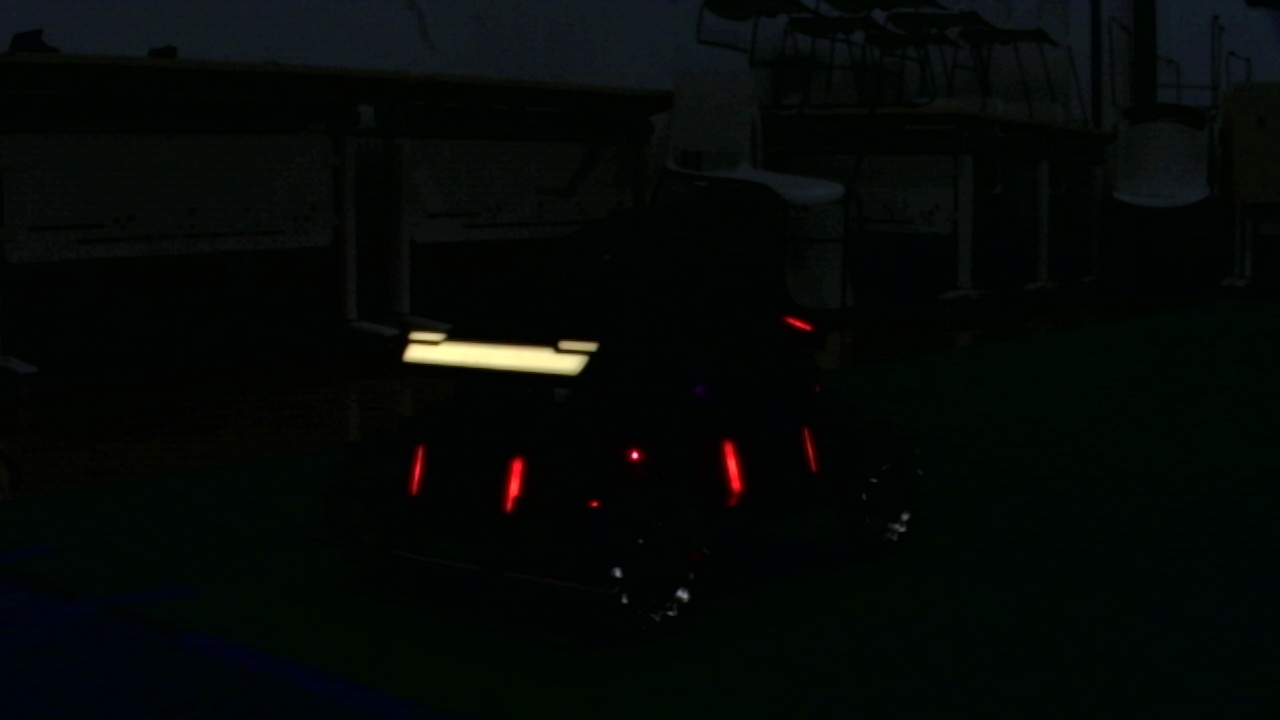lamp: (717, 435, 743, 503), (502, 451, 525, 509), (402, 447, 427, 498)
notpair1: (504, 436, 743, 512)
pair1: (401, 447, 523, 512)
